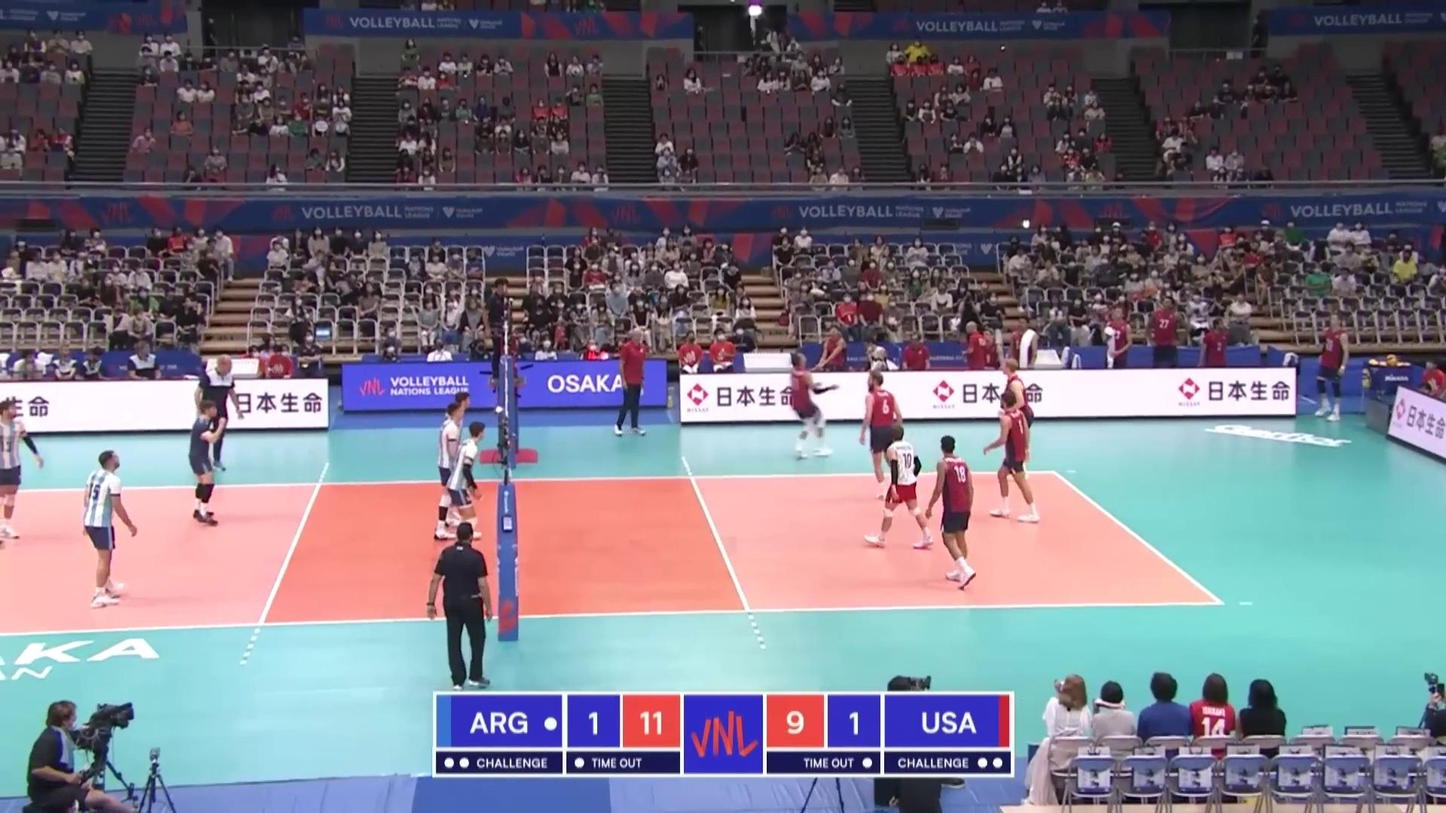player: (83, 450, 142, 605), (928, 437, 980, 590), (871, 426, 932, 549), (989, 394, 1041, 524), (0, 401, 43, 546), (861, 370, 906, 501), (782, 350, 835, 458), (188, 399, 229, 529), (440, 392, 477, 521), (996, 361, 1036, 480), (434, 403, 469, 534), (446, 422, 483, 543)
refree: (431, 527, 495, 690), (484, 278, 515, 382)
